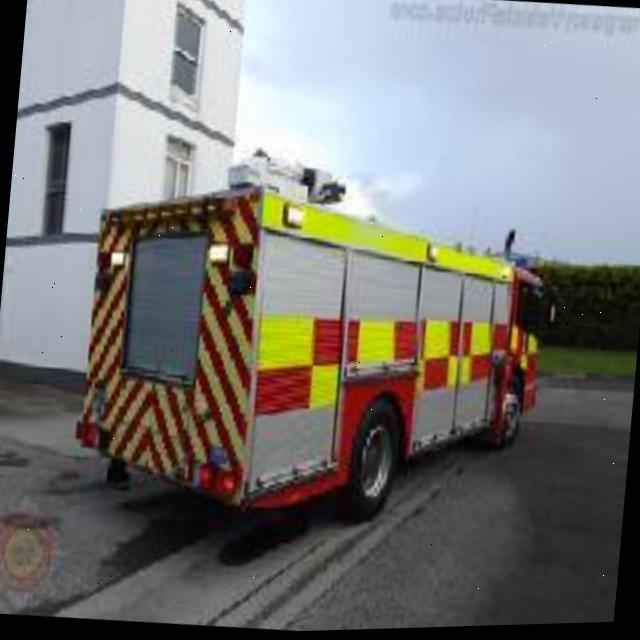emergency: (50, 159, 588, 562)
